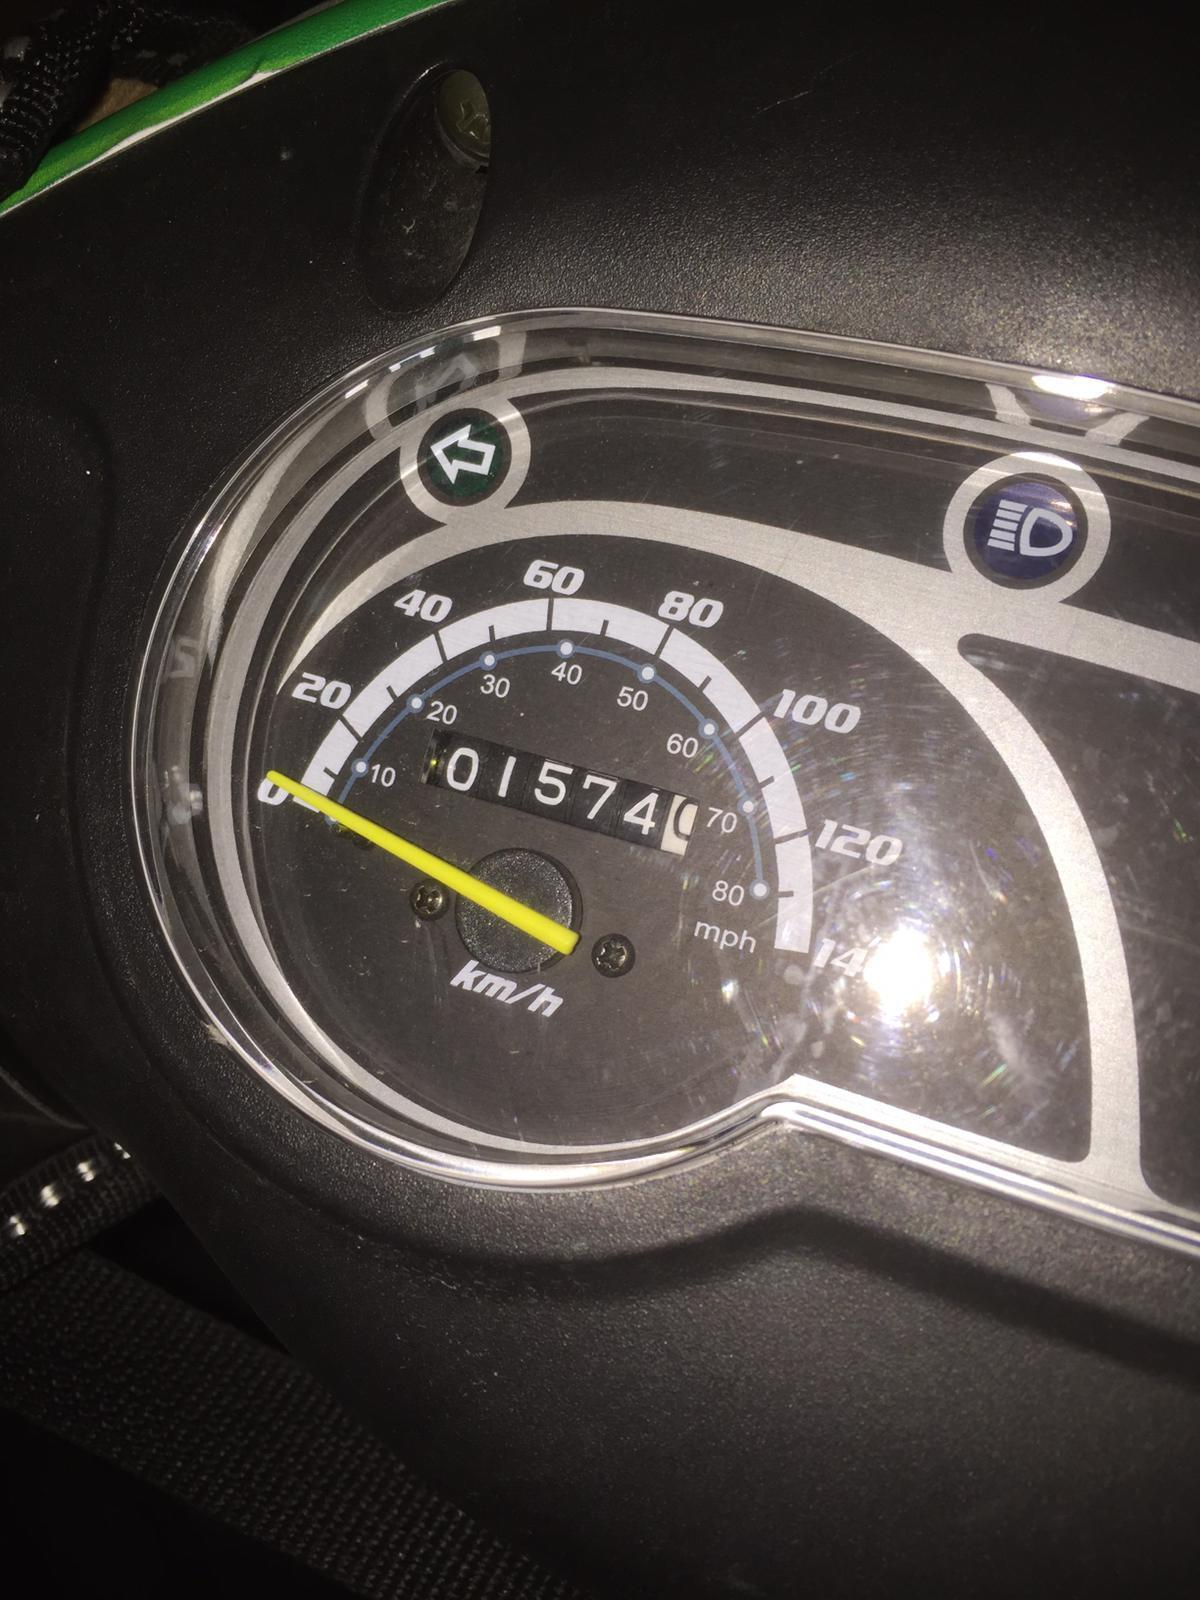0: (445, 745, 480, 792), (672, 792, 702, 839), (683, 734, 700, 758)
1: (495, 753, 518, 797)
4: (621, 784, 661, 837)
5: (532, 753, 574, 811)
6: (666, 732, 683, 753)
7: (582, 771, 619, 820)
odometer: (413, 728, 703, 860)
